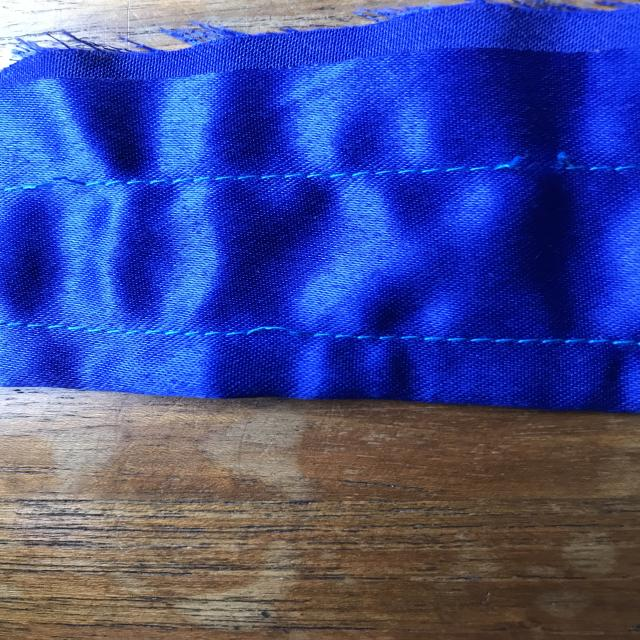broken: (482, 137, 596, 189)
good: (427, 322, 568, 356)
skip: (220, 308, 331, 360)
